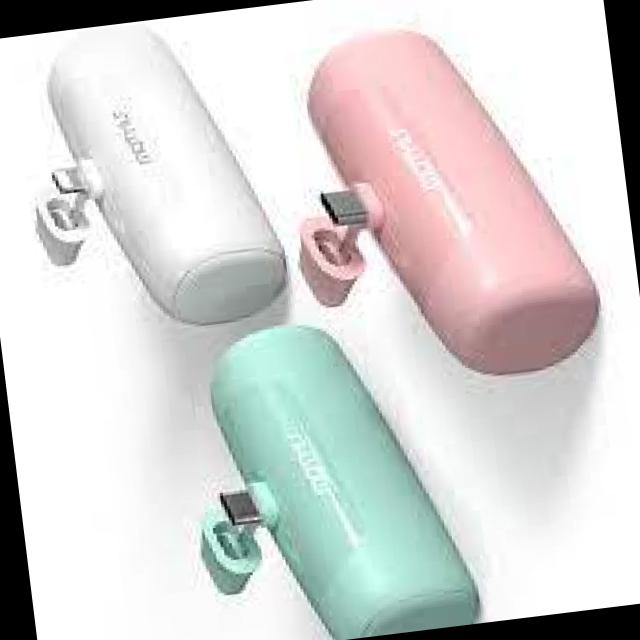power_bank: (268, 7, 610, 399), (167, 299, 487, 640), (10, 9, 292, 341)
